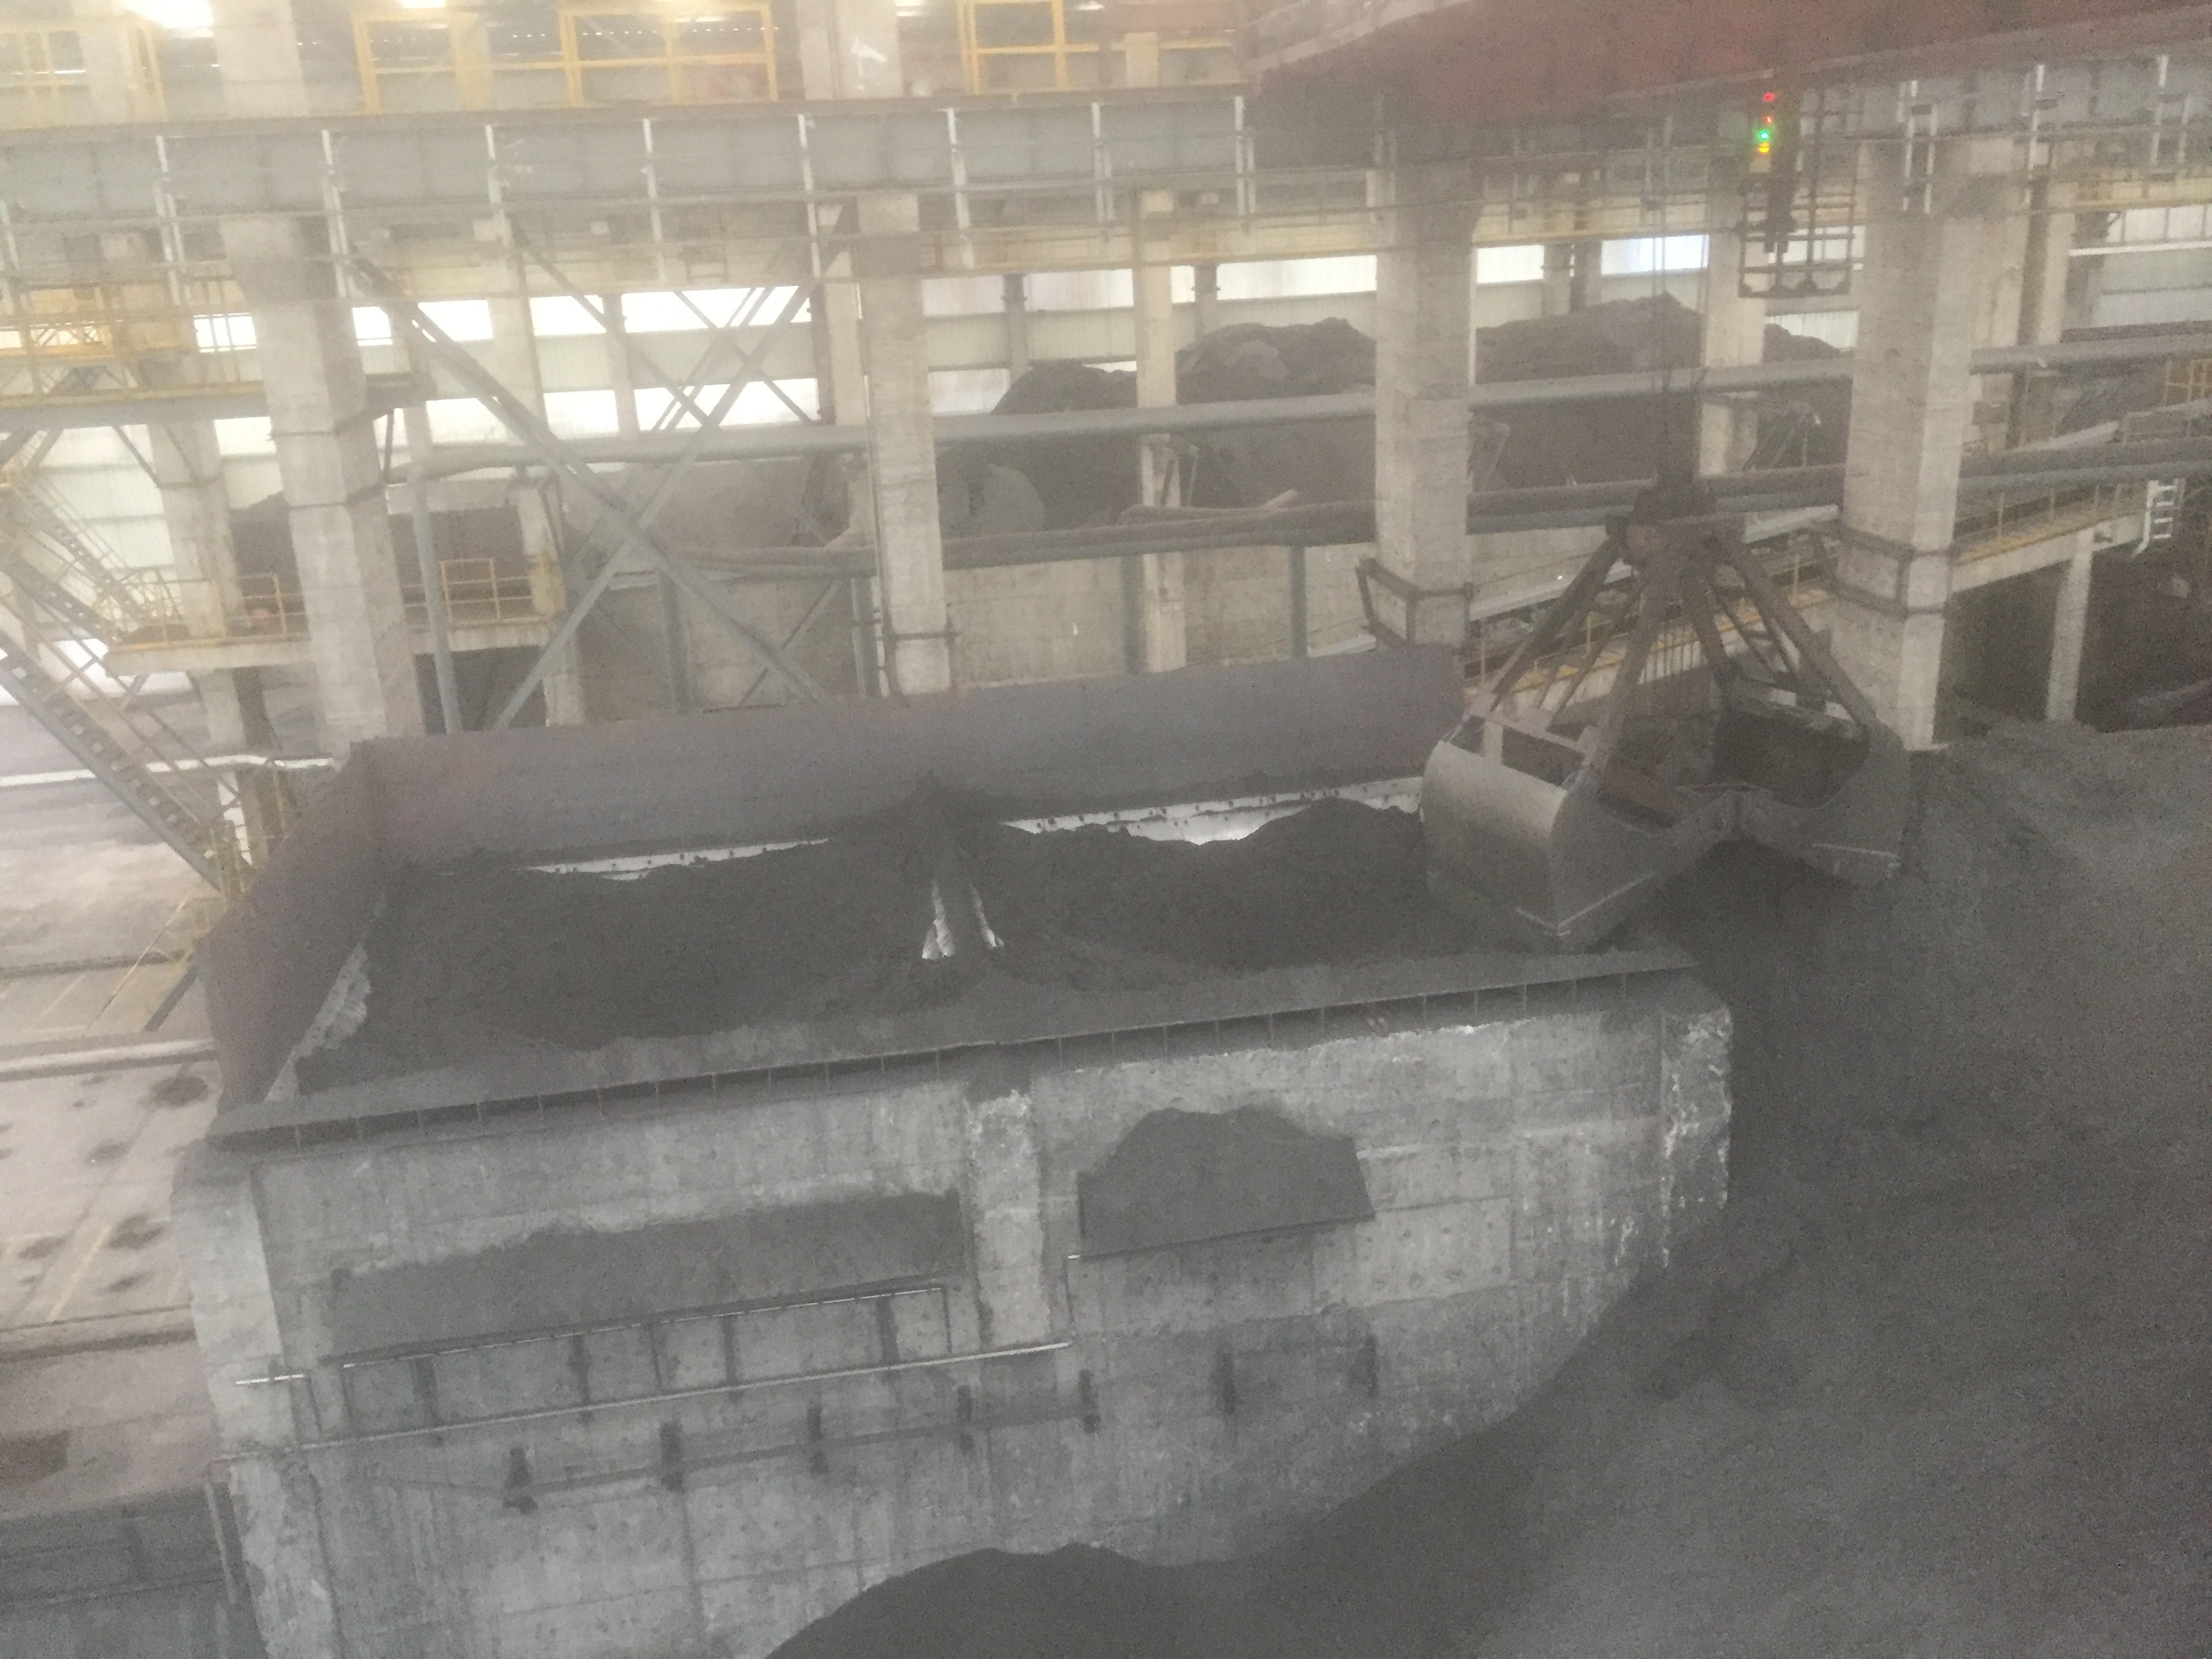grab: (1399, 455, 1926, 958)
